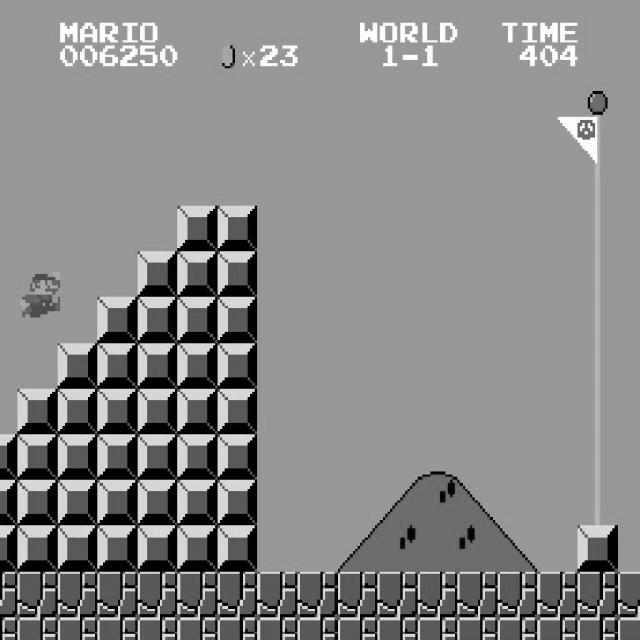11- little_mario: (18, 268, 60, 317)
17- undestructible_block: (17, 572, 58, 618), (57, 572, 98, 618), (97, 572, 138, 618), (137, 572, 178, 618), (177, 572, 218, 618), (217, 572, 258, 618), (257, 572, 298, 618), (297, 572, 338, 618), (337, 572, 378, 618), (377, 572, 418, 618), (417, 572, 458, 618), (457, 572, 498, 618), (497, 572, 538, 618), (537, 572, 578, 618), (577, 572, 618, 618), (618, 572, 640, 618), (17, 617, 58, 640), (57, 617, 98, 640), (97, 617, 138, 640), (137, 617, 178, 640), (177, 617, 218, 640), (217, 617, 258, 640), (257, 617, 298, 640), (297, 617, 338, 640), (337, 617, 378, 640), (377, 617, 418, 640), (417, 617, 458, 640), (457, 617, 498, 640), (497, 617, 538, 640), (537, 617, 578, 640), (577, 617, 618, 640), (0, 571, 17, 617), (618, 617, 640, 640), (0, 617, 17, 639)
7- goal_pole: (577, 68, 618, 114), (577, 114, 618, 160), (577, 160, 618, 206), (577, 252, 618, 298), (577, 297, 618, 343), (577, 388, 618, 434), (577, 434, 618, 480), (577, 480, 618, 526), (577, 206, 618, 251), (577, 343, 618, 388)
9- hard_block: (17, 388, 58, 434), (17, 434, 58, 480), (17, 480, 58, 526), (17, 526, 58, 572), (57, 388, 98, 434), (57, 434, 98, 480), (57, 480, 98, 526), (57, 526, 98, 572), (97, 297, 138, 343), (97, 388, 138, 434), (97, 434, 138, 480), (97, 480, 138, 526), (97, 526, 138, 572), (137, 252, 178, 298), (137, 297, 178, 343), (137, 388, 178, 434), (137, 434, 178, 480), (137, 480, 178, 526), (137, 526, 178, 572), (177, 252, 218, 298), (177, 297, 218, 343), (177, 388, 218, 434), (177, 434, 218, 480), (177, 480, 218, 526), (177, 526, 218, 572), (217, 252, 258, 298), (217, 297, 258, 343), (217, 388, 258, 434), (217, 434, 258, 480), (217, 480, 258, 526), (217, 526, 258, 572), (577, 526, 618, 572), (57, 343, 98, 388), (97, 343, 138, 388), (137, 343, 178, 388), (177, 206, 218, 251), (177, 343, 218, 388), (217, 206, 258, 251), (217, 343, 258, 388), (0, 525, 17, 571), (0, 434, 17, 479), (0, 480, 17, 525)
